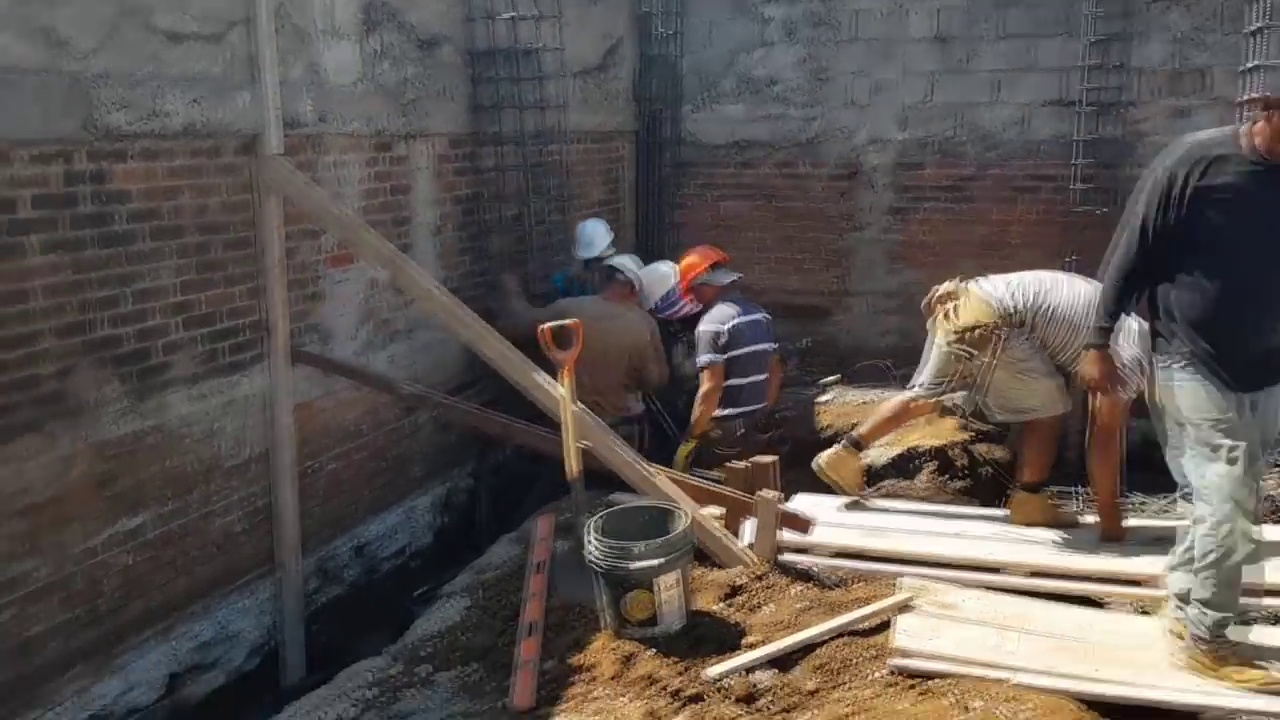helmet: (672, 245, 729, 295), (573, 215, 616, 267), (637, 258, 678, 311), (605, 253, 643, 292)
helmet-off: (1238, 80, 1280, 172)
helmet-on: (638, 257, 698, 334), (671, 245, 734, 310), (568, 215, 618, 280), (597, 253, 643, 308)
person: (1104, 84, 1280, 694), (817, 268, 1116, 529), (502, 250, 667, 460), (669, 245, 776, 468)
